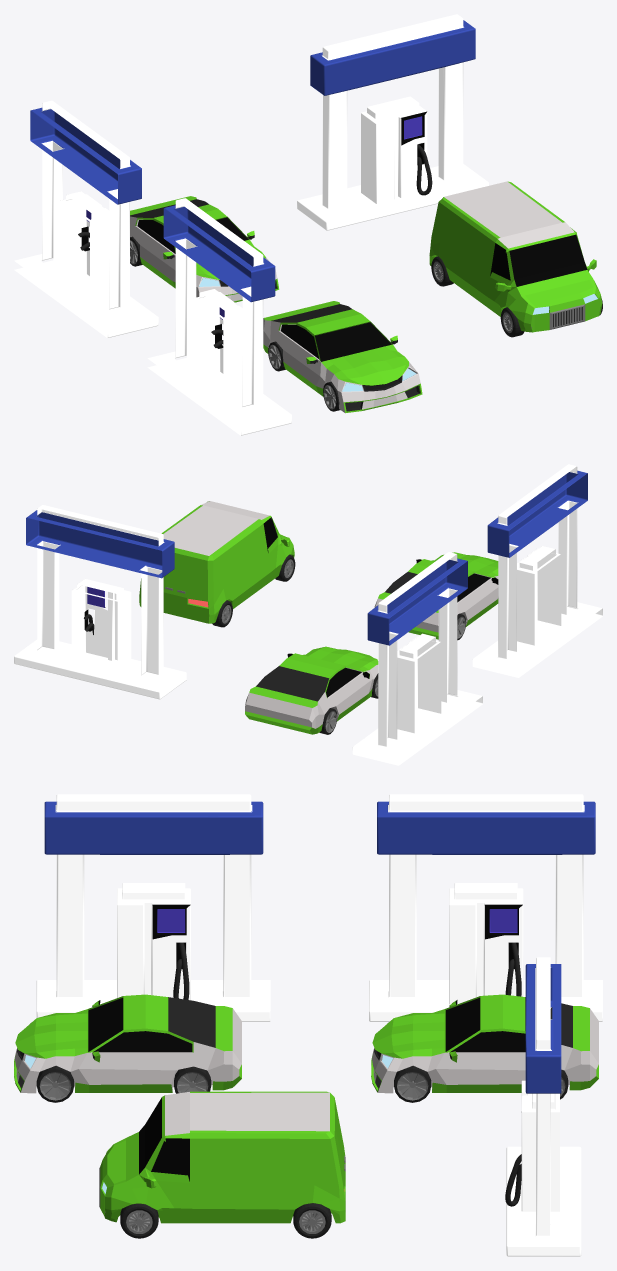
File: Auta.glb
The picture shows the model from 3 angles, top to bottom: view 1: azimuth 30°, elevation 25°; view 2: azimuth 150°, elevation 25°; view 3: azimuth 270°, elevation 25°; orthographic projection. The views are drawn at different scales.
Parts seen in each view (by area): view 1: Car.Low.003, Cube.388, Cube.386, Cube.384, Cube.382, Cube.389, Cube.383, Cube.387, Cube.385; view 2: Cube.388, Cube.384, Car.Low.003, Cube.386, Cube.383, Cube.389, Cube.385, Cube.387, Cube.382; view 3: Car.Low.003, Cube.386, Cube.384, Cube.382, Cube.383, Cube.388, Cube.385, Cube.387, Cube.389.
Part boxes in pixels (x1,y1,x2,y2): Car.Low.003: (429,181,602,337); Cube.388: (297,14,488,230); Cube.386: (147,198,291,435); Cube.384: (14,100,158,337); Cube.382: (263,301,422,413); Cube.389: (361,96,427,203); Cube.383: (130,196,279,302); Cube.387: (193,289,242,399); Cube.385: (60,191,109,301); Cube.388: (14,505,186,699); Cube.384: (352,552,482,765); Car.Low.003: (139,501,295,627); Cube.386: (472,464,602,677); Cube.383: (245,646,378,734); Cube.389: (71,578,131,673); Cube.385: (397,633,441,733); Cube.387: (517,546,561,645); Cube.382: (374,552,498,640); Car.Low.003: (99,1091,345,1238); Cube.386: (36,794,270,1021); Cube.384: (369,794,602,1021); Cube.382: (14,994,241,1102); Cube.383: (371,994,598,1102); Cube.388: (506,957,581,1256); Cube.385: (449,883,523,1004); Cube.387: (117,883,190,1000); Cube.389: (521,1080,559,1211).
Size of the model in its own units: 2.63 by 1 by 2.46.
